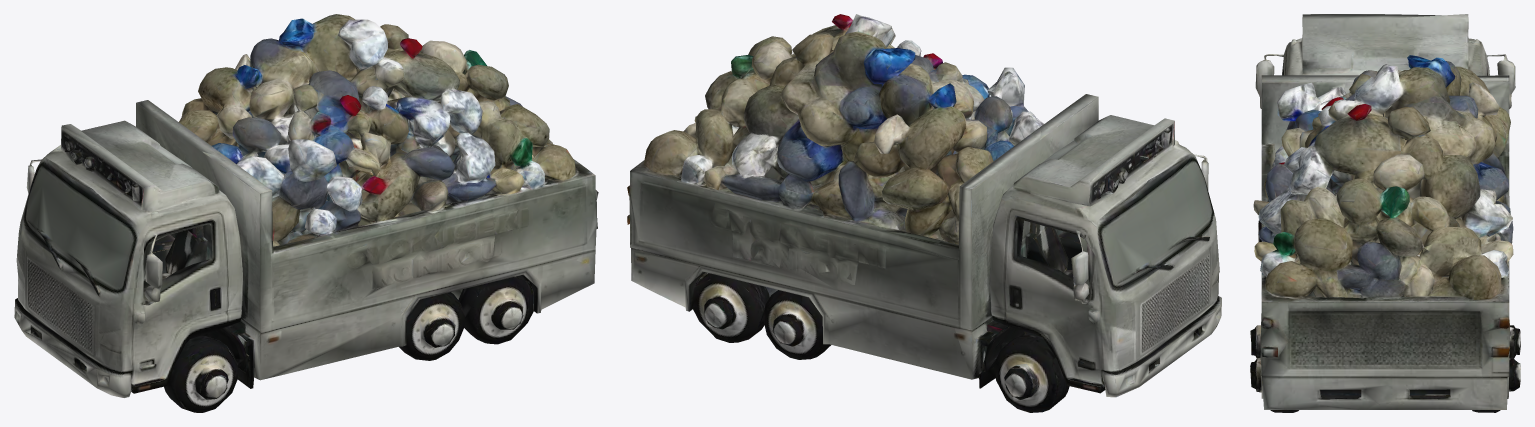
Rendered from b_rtruck.glb.
The picture shows the model from 3 angles, left to right: view 1: azimuth 30°, elevation 25°; view 2: azimuth 150°, elevation 25°; view 3: azimuth 270°, elevation 25°; orthographic projection. The views are drawn at different scales.
Visible parts, largest first — view 1: Mesh_0; view 2: Mesh_0; view 3: Mesh_0.
Boxes of the visible parts, box(x1,y1,x2,y2) form: Mesh_0: box(14, 14, 598, 412); Mesh_0: box(627, 14, 1221, 412); Mesh_0: box(1250, 14, 1520, 412).
Size of the model in its own units: 1.91 by 1.15 by 0.9396.
1 material, 1 textured.
